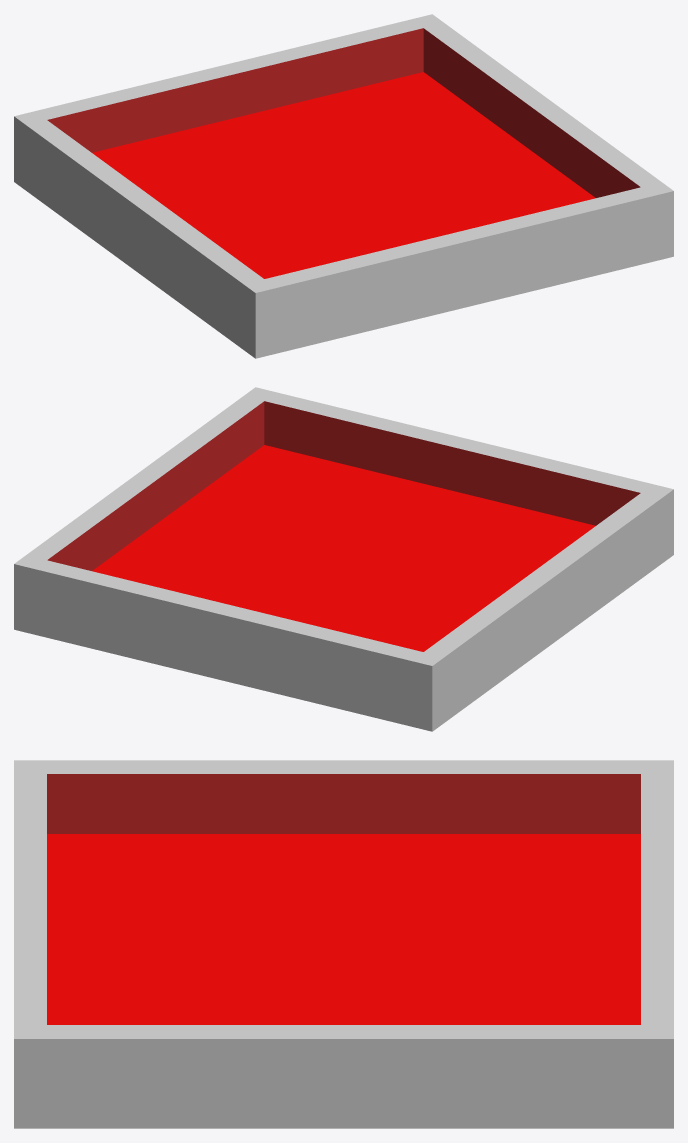
Rendered from PlayUpGrp0.dae.
3 views of the same model, one above another, from view 1: azimuth 30°, elevation 25°; view 2: azimuth 150°, elevation 25°; view 3: azimuth 270°, elevation 25° (orthographic). The views are drawn at different scales.
Visible parts, largest first — view 1: mesh0%root%2%, mesh0%root%1%, mesh0%root%0%; view 2: mesh0%root%2%, mesh0%root%1%, mesh0%root%0%; view 3: mesh0%root%1%, mesh0%root%2%, mesh0%root%0%.
Boxes of the visible parts, left/top/right/bottom form: mesh0%root%2%: left=14, top=14, right=673, bottom=358; mesh0%root%1%: left=92, top=72, right=595, bottom=278; mesh0%root%0%: left=47, top=28, right=640, bottom=197; mesh0%root%2%: left=14, top=387, right=673, bottom=731; mesh0%root%1%: left=92, top=445, right=595, bottom=651; mesh0%root%0%: left=47, top=401, right=640, bottom=570; mesh0%root%1%: left=47, top=834, right=640, bottom=1024; mesh0%root%2%: left=14, top=760, right=673, bottom=1128; mesh0%root%0%: left=47, top=774, right=640, bottom=833.
Size of the model in its own units: 20 by 3 by 20.
